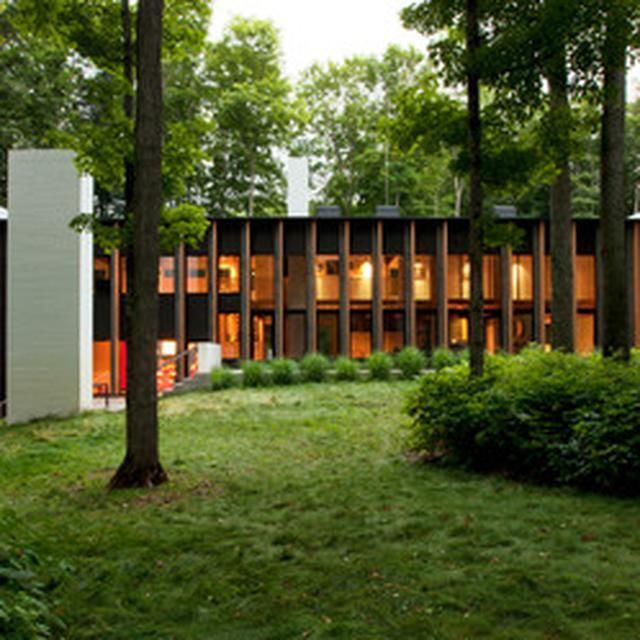building: (3, 129, 640, 415)
